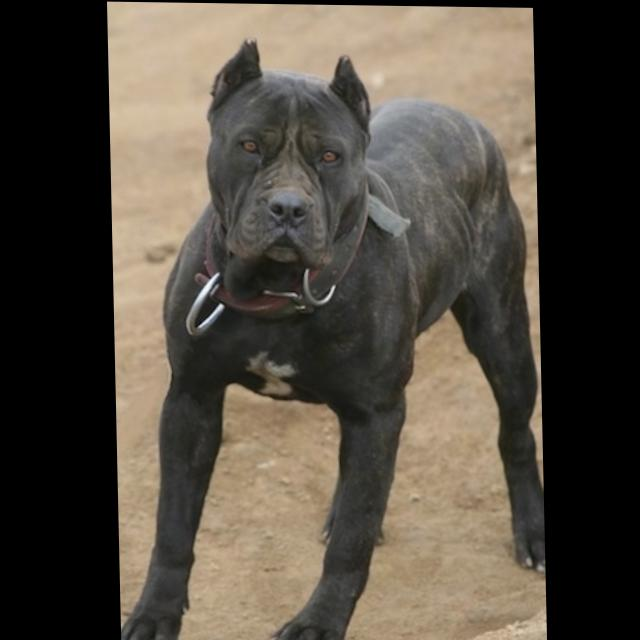mastino_napoletano: (109, 34, 545, 640)
